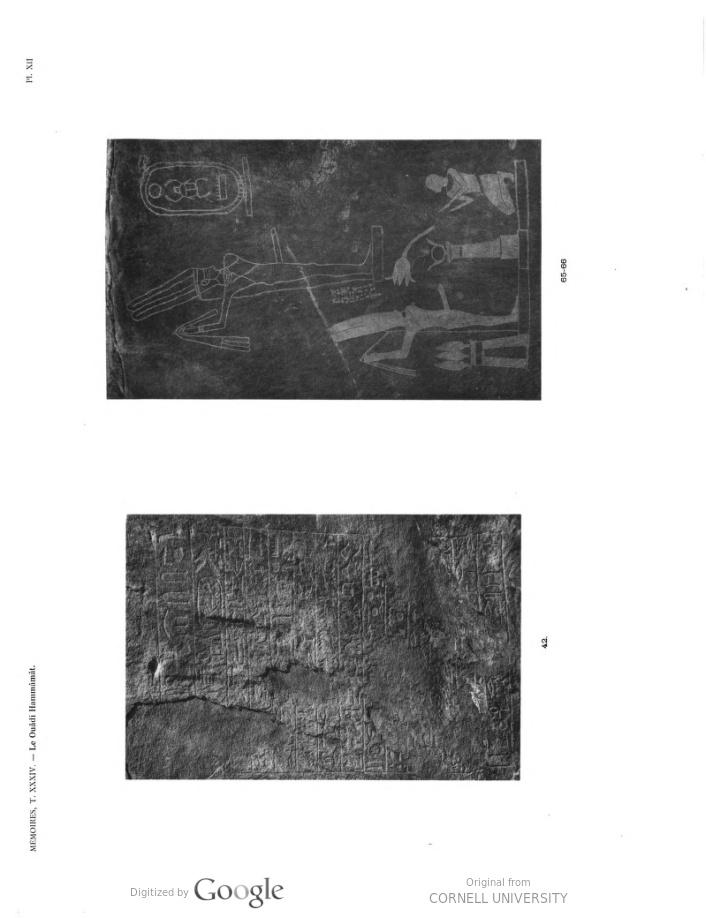circle: (126, 152, 275, 223), (187, 563, 235, 640)
